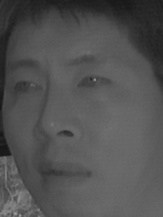eye: (74, 72, 113, 93), (10, 77, 43, 99)
mouth: (33, 154, 92, 190)
